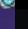bar: (15, 0, 28, 9)
mirror: (0, 0, 15, 9)
